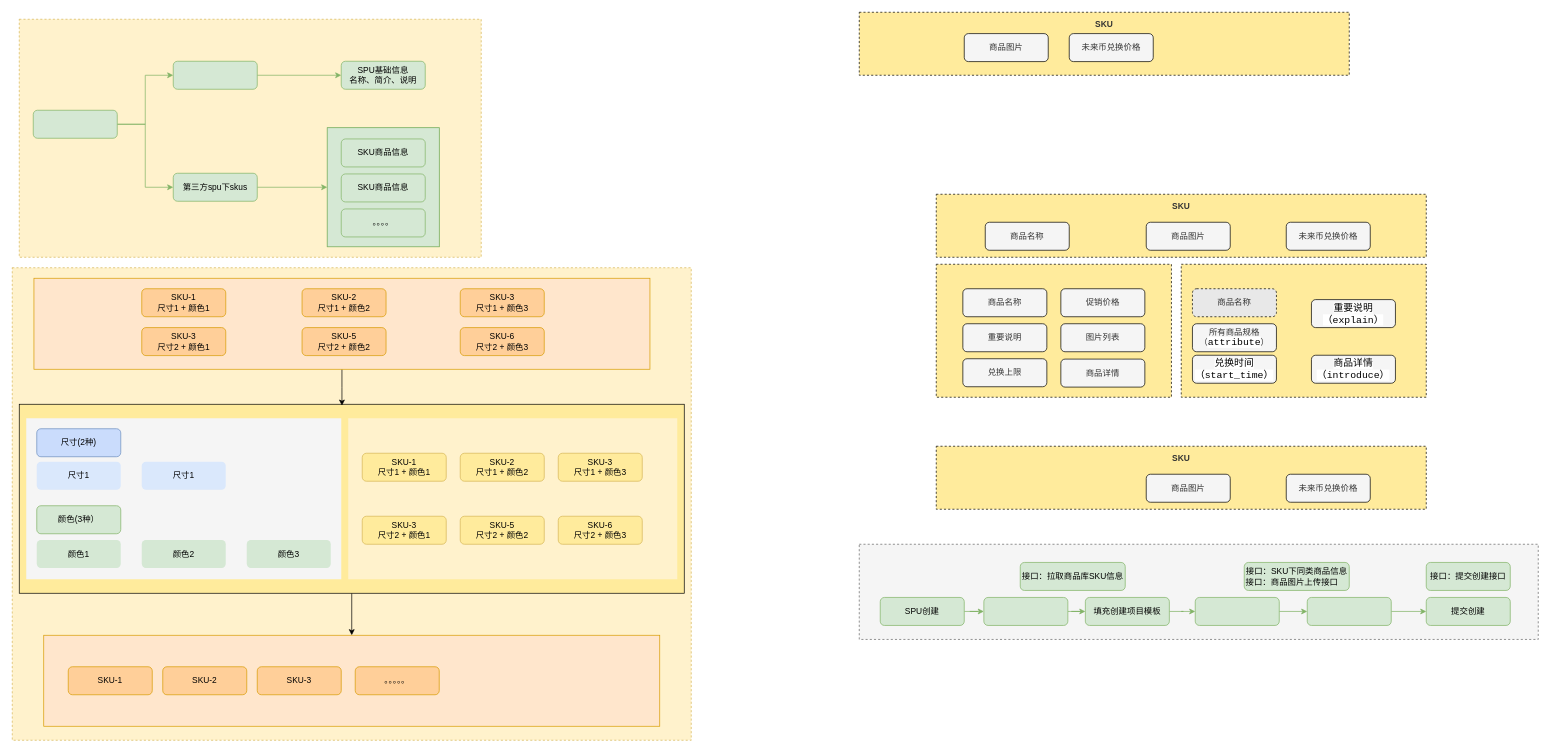
This 1551x753 diagram has some shape labels left out. The shapes that lost their labels are listed below. From the top down, each one's box as (x1, y1, x2, y2) in pixels, then its label:
(173, 61, 257, 89): 第三方商品sku信息为模板
(33, 110, 117, 138): 第三方sku
(936, 264, 1171, 397): 促销信息
(1181, 264, 1426, 397): SPU
(26, 418, 341, 579): 方案1
(348, 418, 677, 579): 方案2
(983, 597, 1068, 625): 拉取SKU信息
(1195, 597, 1279, 625): 拉取SPU下所有SKU信息
(1307, 597, 1391, 625): 修改、删除商品信息
